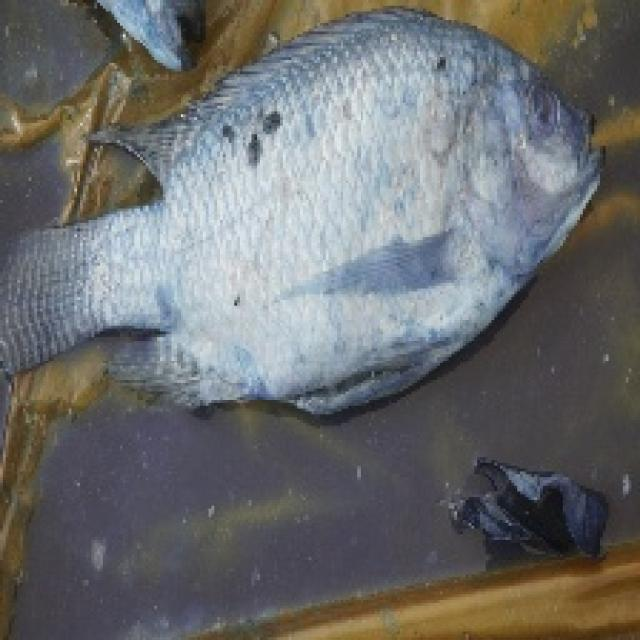Non-Fresh: (83, 42, 615, 390)
